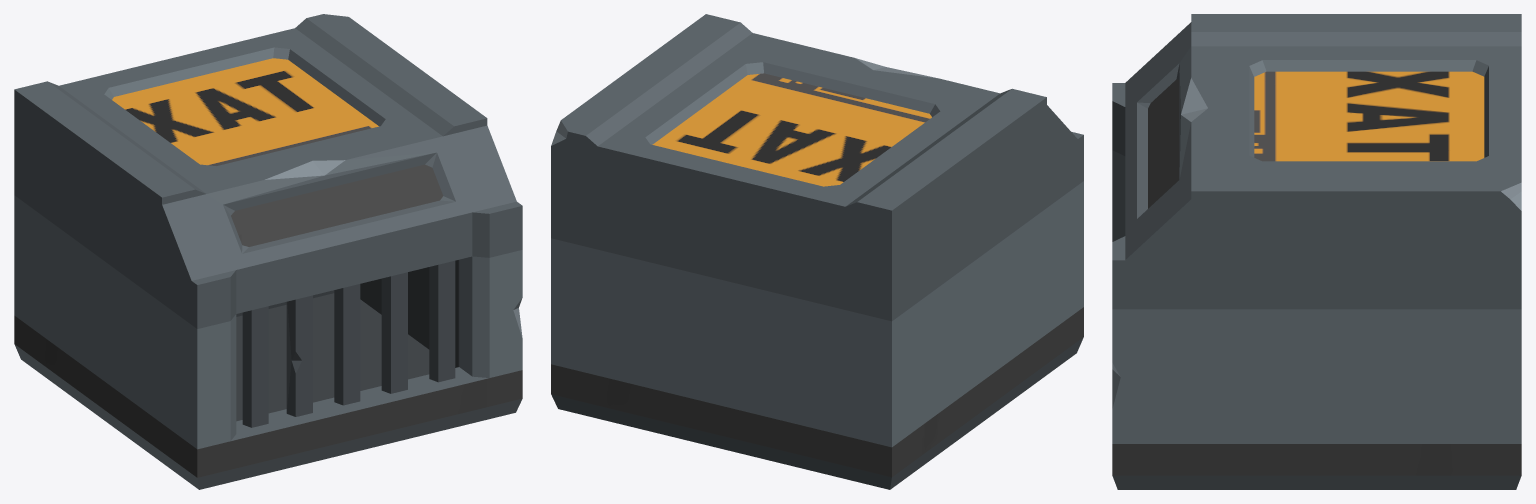
File: SM_Prop_Cage_01.fbx
3 views of the same model, side by side, from view 1: azimuth 30°, elevation 25°; view 2: azimuth 150°, elevation 25°; view 3: azimuth 270°, elevation 25° (orthographic). The views are drawn at different scales.
Visible parts, largest first — view 1: SM_Props_Cage_01; view 2: SM_Props_Cage_01; view 3: SM_Props_Cage_01.
Part boxes in pixels (box(x1,y1,x2,y2)): SM_Props_Cage_01: box(14, 14, 522, 489); SM_Props_Cage_01: box(551, 14, 1083, 489); SM_Props_Cage_01: box(1112, 14, 1521, 489).
Size of the model in its own units: 68.85 by 54.48 by 67.13.
